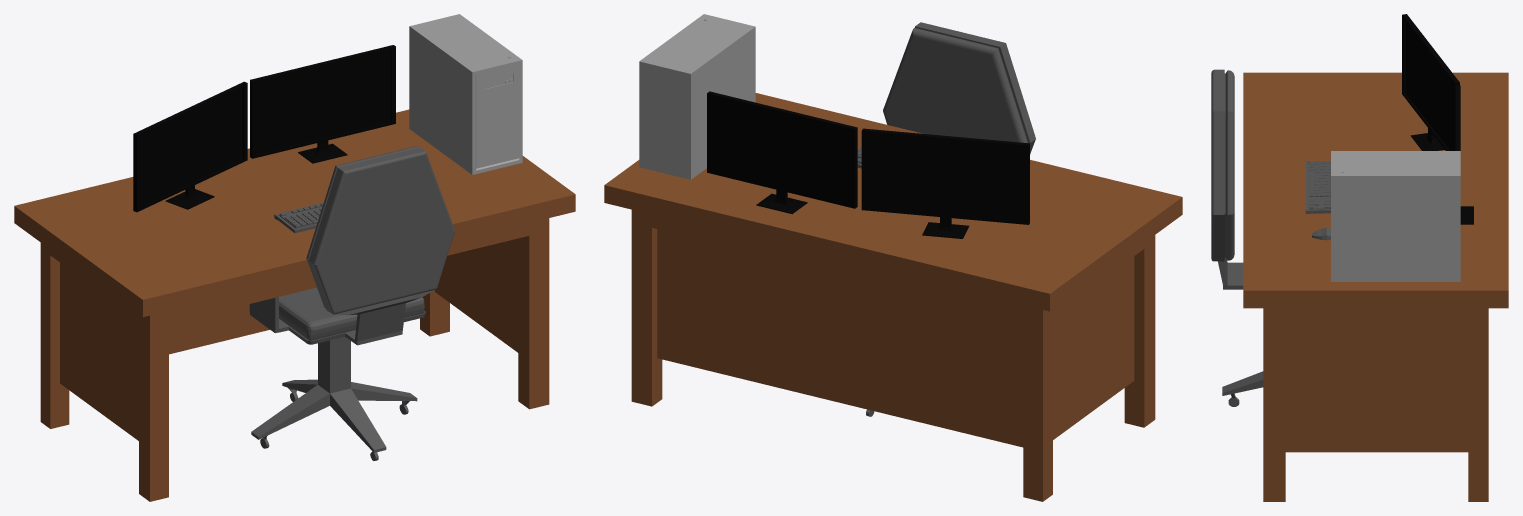
The model's file is Workstation.glb.
The picture shows the model from 3 angles, left to right: view 1: azimuth 30°, elevation 25°; view 2: azimuth 150°, elevation 25°; view 3: azimuth 270°, elevation 25°; orthographic projection. The views are drawn at different scales.
Visible parts, largest first — view 1: Desk, OfficeChair, CpuTower, Monitor2, Monitor1, Keyboard; view 2: Desk, Monitor1, OfficeChair, Monitor2, CpuTower; view 3: Desk, CpuTower, OfficeChair, Monitor1, Keyboard, Monitor2.
Part boxes in pixels (x1,y1,x2,y2): Desk: (14, 109, 575, 501); OfficeChair: (249, 146, 454, 460); CpuTower: (409, 14, 522, 174); Monitor2: (250, 45, 395, 163); Monitor1: (133, 81, 247, 212); Keyboard: (274, 202, 323, 233); Desk: (604, 93, 1182, 501); Monitor1: (861, 128, 1029, 238); OfficeChair: (866, 22, 1035, 416); Monitor2: (707, 91, 857, 214); CpuTower: (639, 14, 755, 179); Desk: (1243, 72, 1508, 501); CpuTower: (1331, 151, 1460, 281); OfficeChair: (1211, 69, 1263, 406); Monitor1: (1402, 14, 1459, 150); Keyboard: (1305, 160, 1330, 213); Monitor2: (1455, 85, 1473, 224).
Size of the model in its own units: 8.81 by 6.22 by 5.08.
